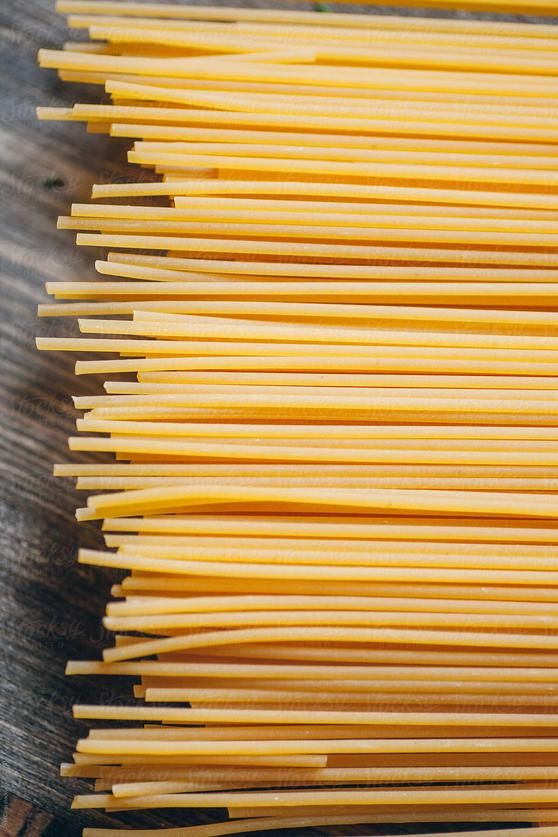spaghetti: (54, 4, 558, 828)
